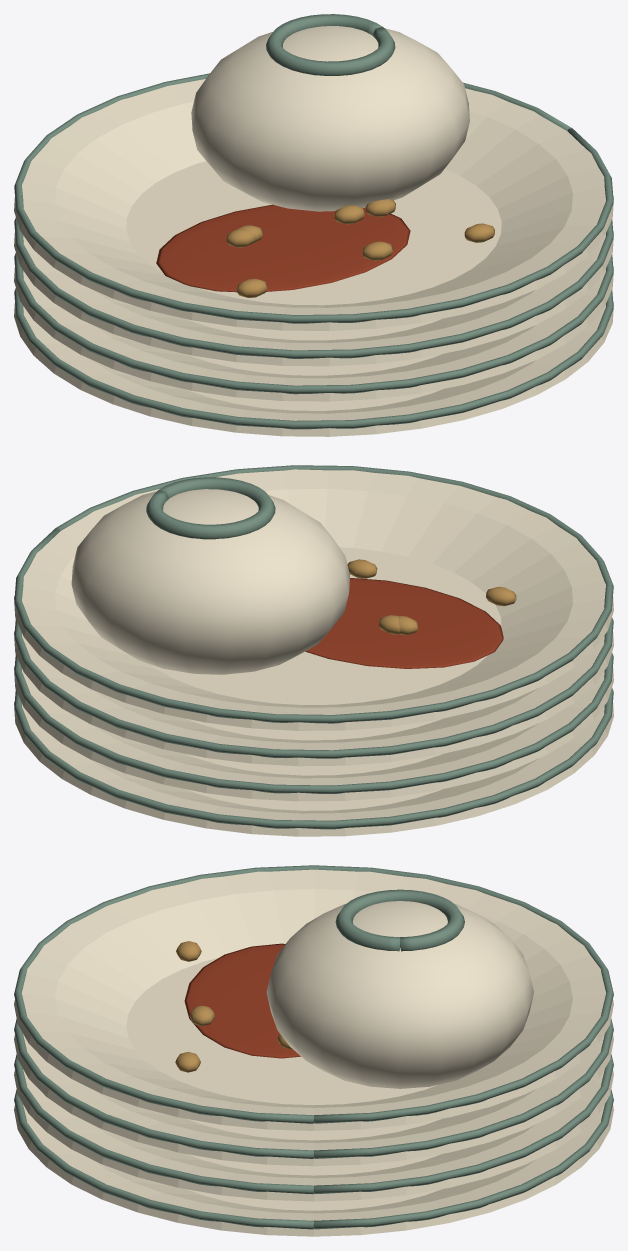
The model's file is dirty-dishes.glb.
The picture shows the model from 3 angles, top to bottom: view 1: azimuth 30°, elevation 25°; view 2: azimuth 150°, elevation 25°; view 3: azimuth 270°, elevation 25°; orthographic projection.
Visible parts, largest first — view 1: Stacked shallow plate.011, Overturned tea bowl.002, Stacked shallow plate.008, Stacked shallow plate.010, Stacked shallow plate.009, Dried sauce smear.002, Glazed rim.011, Glazed rim.008, Glazed rim.010, Glazed rim.009, Bowl foot.002; view 2: Stacked shallow plate.011, Overturned tea bowl.002, Stacked shallow plate.008, Stacked shallow plate.009, Stacked shallow plate.010, Dried sauce smear.002, Glazed rim.011, Glazed rim.008, Glazed rim.010, Glazed rim.009, Bowl foot.002; view 3: Stacked shallow plate.011, Overturned tea bowl.002, Stacked shallow plate.009, Stacked shallow plate.008, Stacked shallow plate.010, Glazed rim.011, Dried sauce smear.002, Glazed rim.008, Glazed rim.009, Glazed rim.010, Bowl foot.002.
Boxes of the visible parts, <box> form: Stacked shallow plate.011: <box>14,79,613,330</box>; Overturned tea bowl.002: <box>191,26,469,211</box>; Stacked shallow plate.008: <box>14,302,613,436</box>; Stacked shallow plate.010: <box>14,231,613,366</box>; Stacked shallow plate.009: <box>14,267,613,401</box>; Dried sauce smear.002: <box>156,204,410,292</box>; Glazed rim.011: <box>14,73,613,323</box>; Glazed rim.008: <box>14,288,613,429</box>; Glazed rim.010: <box>14,217,613,358</box>; Glazed rim.009: <box>14,253,613,394</box>; Bowl foot.002: <box>266,14,395,75</box>; Stacked shallow plate.011: <box>14,469,613,730</box>; Overturned tea bowl.002: <box>71,489,349,674</box>; Stacked shallow plate.008: <box>14,702,613,836</box>; Stacked shallow plate.009: <box>14,666,613,801</box>; Stacked shallow plate.010: <box>14,631,613,766</box>; Dried sauce smear.002: <box>305,578,503,668</box>; Glazed rim.011: <box>14,465,613,723</box>; Glazed rim.008: <box>14,688,613,829</box>; Glazed rim.010: <box>14,617,613,758</box>; Glazed rim.009: <box>14,653,613,793</box>; Bowl foot.002: <box>146,477,275,539</box>; Stacked shallow plate.011: <box>14,869,613,1130</box>; Overturned tea bowl.002: <box>266,901,533,1088</box>; Stacked shallow plate.009: <box>14,1069,613,1201</box>; Stacked shallow plate.008: <box>14,1104,613,1236</box>; Stacked shallow plate.010: <box>14,1034,613,1166</box>; Glazed rim.011: <box>14,865,613,1123</box>; Dried sauce smear.002: <box>184,943,300,1058</box>; Glazed rim.008: <box>14,1089,613,1229</box>; Glazed rim.009: <box>14,1054,613,1194</box>; Glazed rim.010: <box>14,1019,613,1158</box>; Bowl foot.002: <box>335,889,464,951</box>.
Bounding box in the file's own units: 0.278 × 0.1355 × 0.278.
